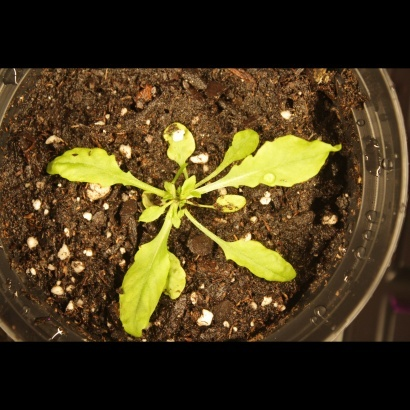leaf: (235, 133, 348, 187), (113, 237, 167, 337), (210, 234, 302, 291), (38, 147, 140, 193), (152, 118, 202, 163), (216, 124, 261, 170), (158, 249, 192, 299), (133, 200, 166, 232), (210, 192, 248, 217), (176, 173, 204, 202), (139, 184, 163, 209)
